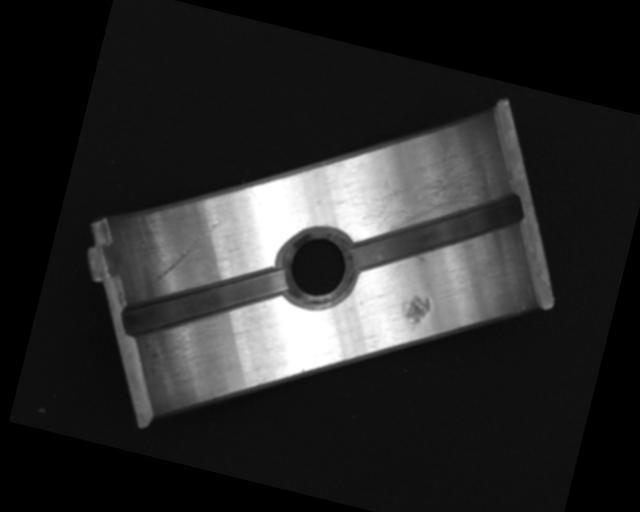bruise: (399, 291, 433, 335)
gap: (346, 159, 528, 305), (119, 235, 290, 370)
hole: (273, 220, 363, 317)
nick: (153, 208, 222, 294)
scratch: (359, 125, 499, 258)
